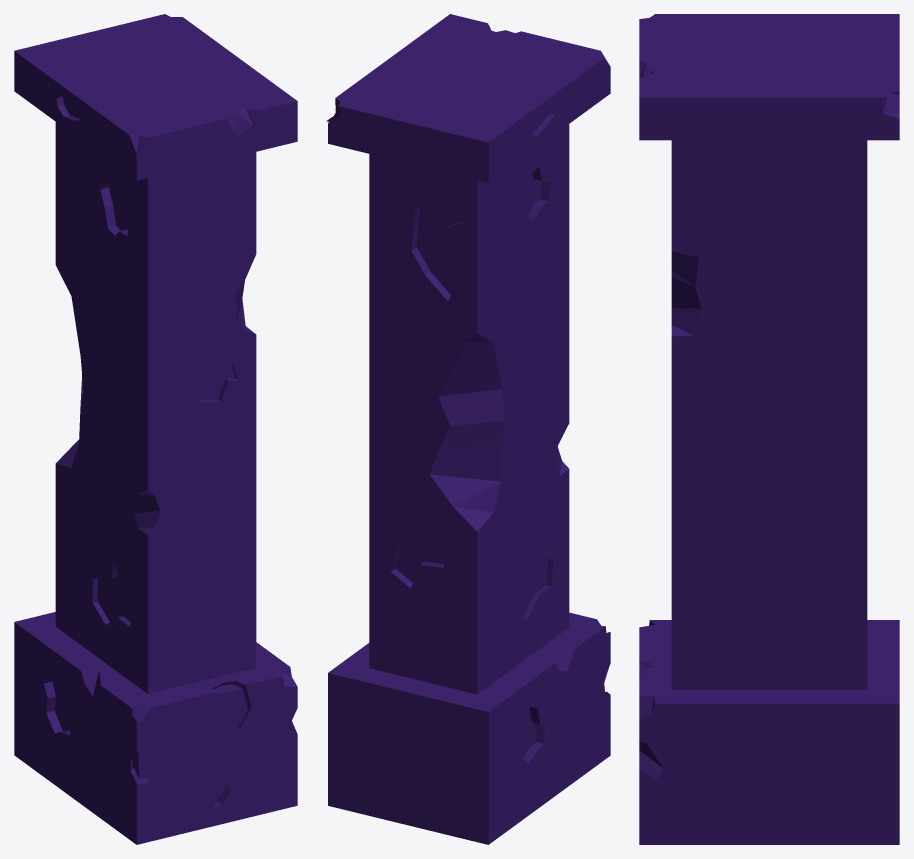
Rendered from COLUMN.fbx.
3 views of the same model, side by side, from view 1: azimuth 30°, elevation 25°; view 2: azimuth 150°, elevation 25°; view 3: azimuth 270°, elevation 25° (orthographic). The views are drawn at different scales.
Parts seen in each view (by area): view 1: WALL_SAMPLE_LP; view 2: WALL_SAMPLE_LP; view 3: WALL_SAMPLE_LP.
Boxes of the visible parts, x1,y1,x2,y2 form: WALL_SAMPLE_LP: [14, 14, 297, 844]; WALL_SAMPLE_LP: [326, 14, 610, 844]; WALL_SAMPLE_LP: [639, 14, 899, 844].
Bounding box in the file's own units: 309 × 1279 × 403.
